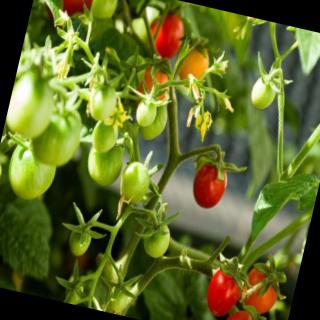Tomat: (197, 244, 292, 320), (202, 252, 250, 320), (142, 1, 193, 65), (187, 145, 235, 212), (239, 260, 286, 318)
